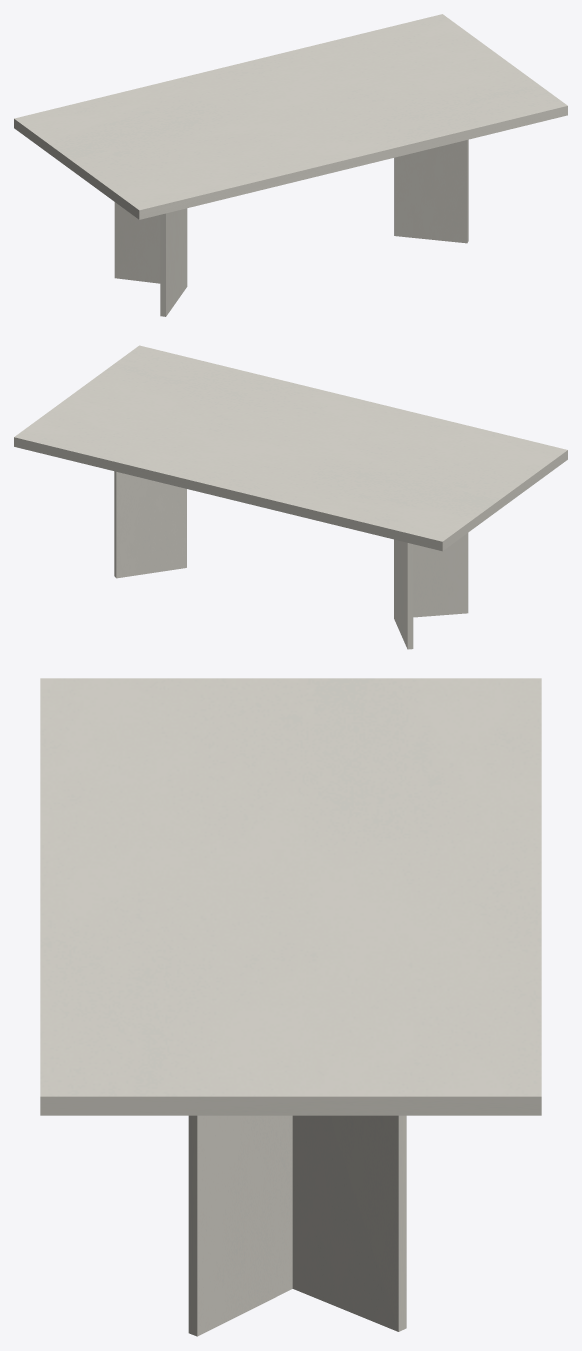
Rendered from pale_recta_standard_valleyv.glb.
3 renders of one model, top to bottom at view 1: azimuth 30°, elevation 25°; view 2: azimuth 150°, elevation 25°; view 3: azimuth 270°, elevation 25°, orthographic. The views are drawn at different scales.
Visible parts, largest first — view 1: standard_recta, valleyv; view 2: standard_recta, valleyv; view 3: standard_recta, valleyv.
Part boxes in pixels (x1,y1,x2,y2): standard_recta: (14, 14, 567, 219); valleyv: (114, 139, 468, 316); standard_recta: (14, 345, 567, 551); valleyv: (114, 471, 468, 649); standard_recta: (40, 678, 541, 1115); valleyv: (188, 1115, 406, 1336).
Bounding box in the file's own units: 7.5 × 2.5 × 3.8.
Materials: 1 (1 with a texture image).
